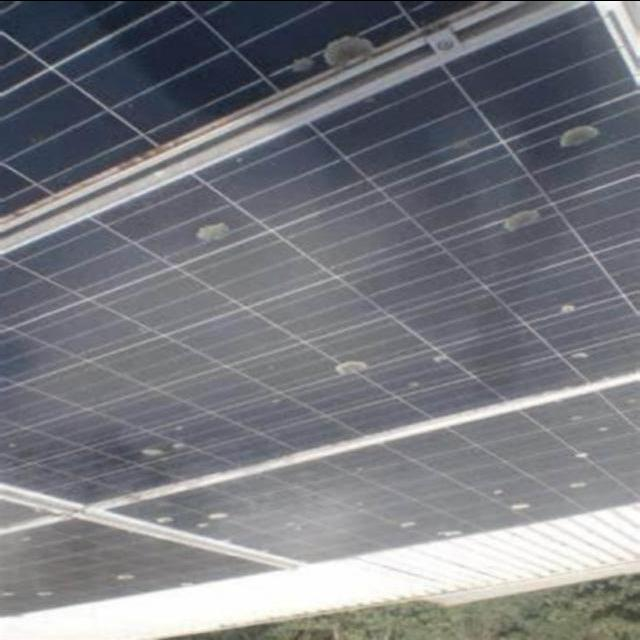soiled: (0, 0, 637, 548)
